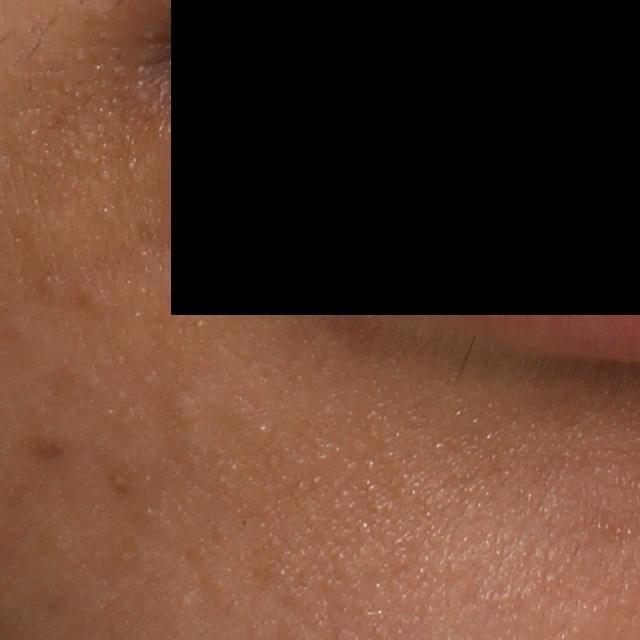comedo: (165, 394, 198, 425)
